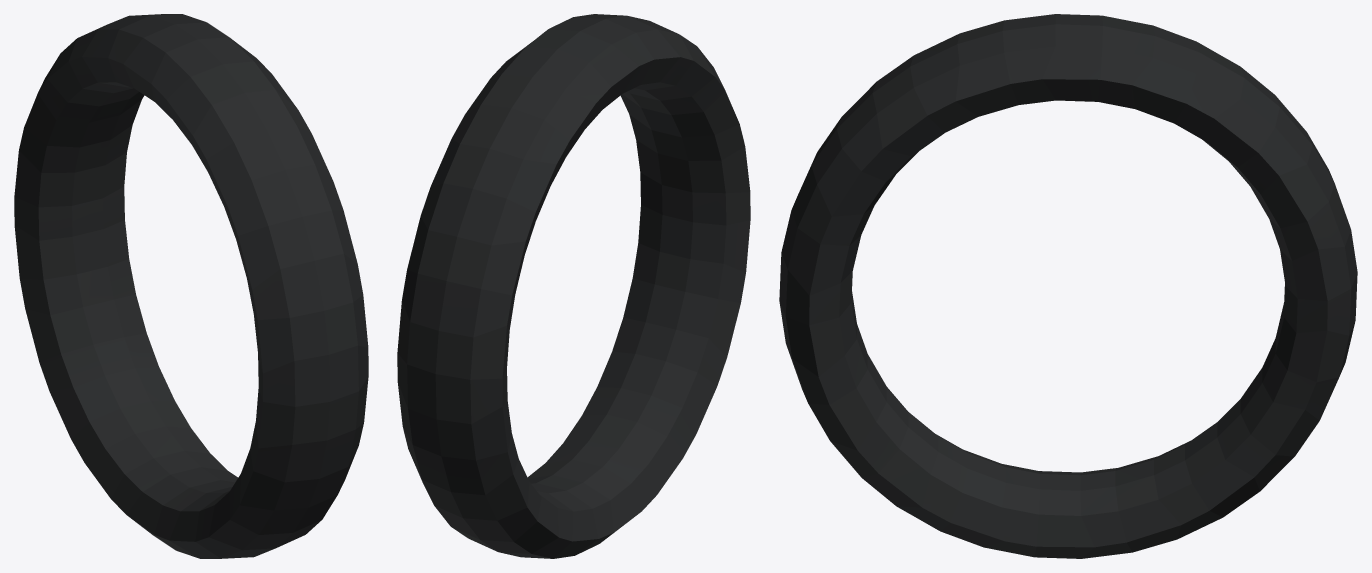
Rendered from SmoothTire.fbx.
3 renders of one model, left to right at view 1: azimuth 30°, elevation 25°; view 2: azimuth 150°, elevation 25°; view 3: azimuth 270°, elevation 25°, orthographic. The views are drawn at different scales.
Visible parts, largest first — view 1: SportsTire; view 2: SportsTire; view 3: SportsTire.
Boxes of the visible parts, left/top/right/bottom form: SportsTire: left=14, top=14, right=368, bottom=558; SportsTire: left=397, top=14, right=750, bottom=558; SportsTire: left=779, top=14, right=1357, bottom=558.
Size of the model in its own units: 0.7586 by 3.46 by 3.46.
